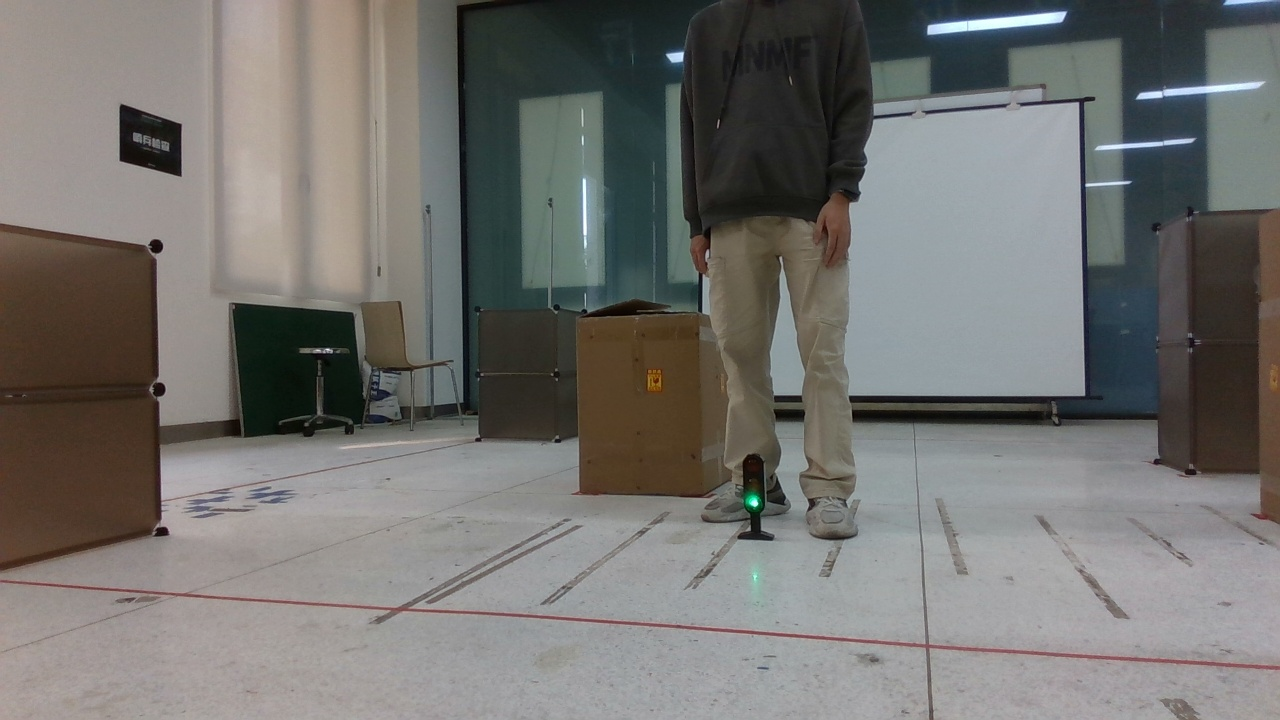green_light: (724, 444, 783, 545)
